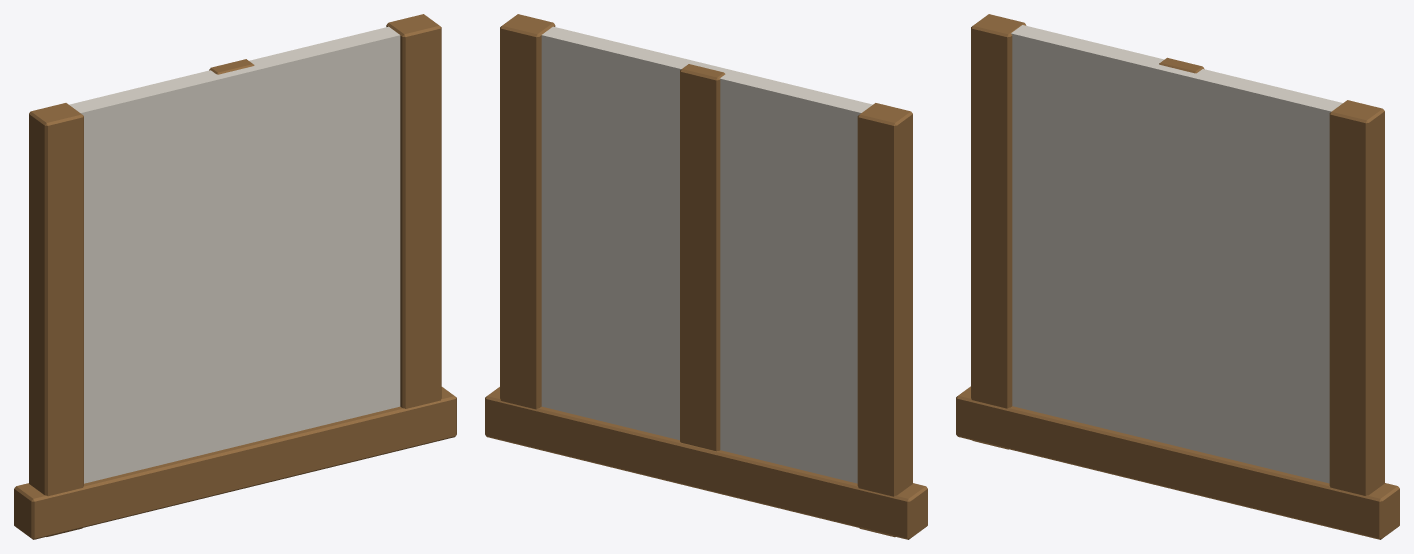
File: WallV.fbx
The picture shows the model from 3 angles, left to right: view 1: azimuth 30°, elevation 25°; view 2: azimuth 150°, elevation 25°; view 3: azimuth 330°, elevation 25°; orthographic projection.
Visible parts, largest first — view 1: Cube.110, Cube.121, Cube.123, Cube.118; view 2: Cube.110, Cube.121, Cube.123, Cube.118, Cube.114; view 3: Cube.110, Cube.118, Cube.123, Cube.121.
Part boxes in pixels (x1,y1,x2,y2): Cube.110: (69, 26, 400, 483); Cube.121: (29, 103, 83, 536); Cube.123: (14, 387, 456, 539); Cube.118: (386, 14, 441, 408); Cube.110: (541, 26, 872, 483); Cube.121: (857, 103, 912, 537); Cube.123: (485, 387, 927, 539); Cube.118: (500, 14, 555, 409); Cube.114: (680, 64, 725, 451); Cube.110: (1011, 25, 1342, 483); Cube.118: (1329, 100, 1384, 495); Cube.123: (956, 386, 1399, 539); Cube.121: (971, 14, 1026, 449).
Size of the model in its own units: 216 by 202 by 17.27.
